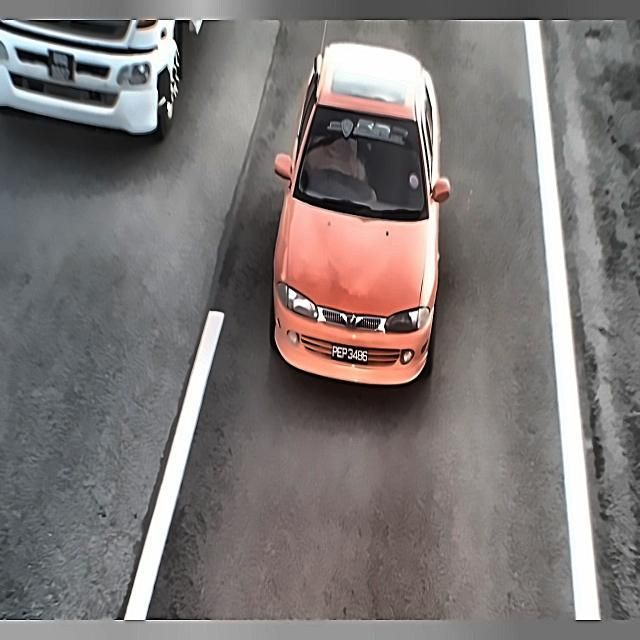car: (318, 330, 374, 370), (39, 45, 81, 90)
